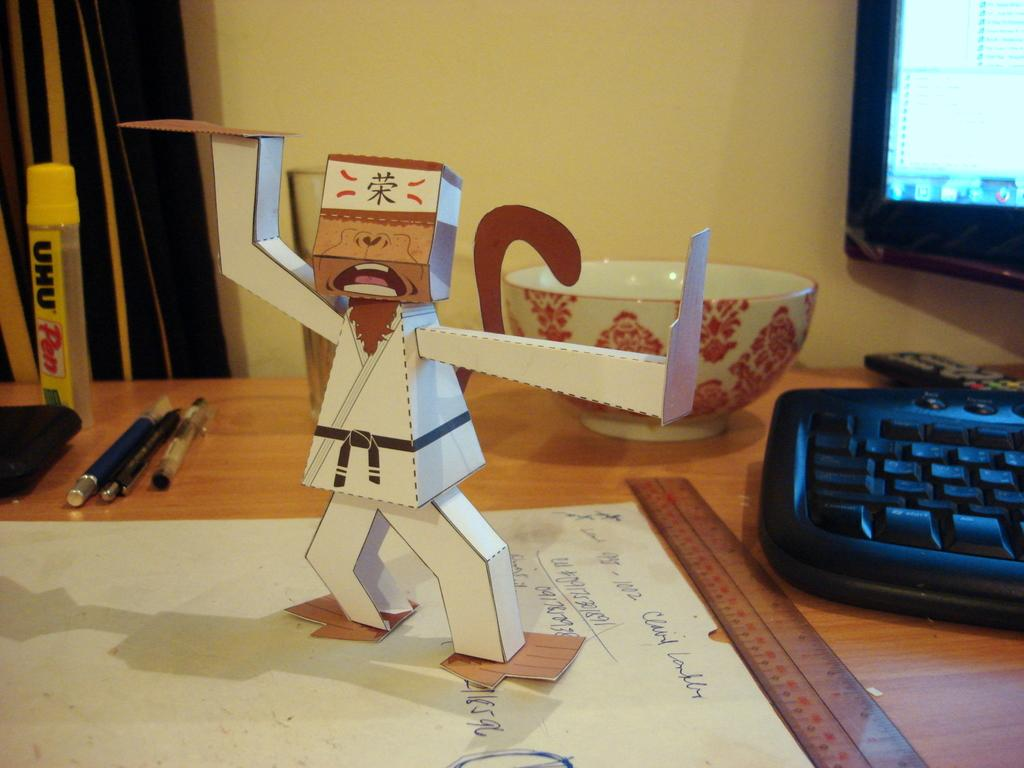pen: (63, 388, 173, 505), (107, 399, 186, 502), (159, 393, 206, 481)
